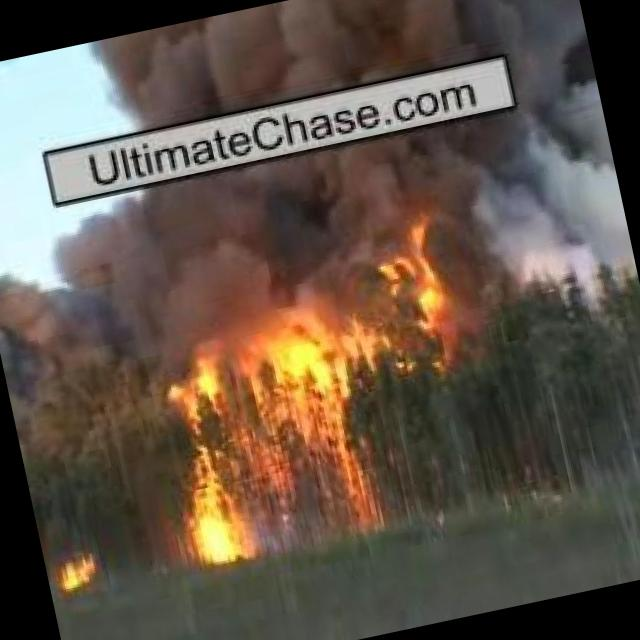Fire: (152, 315, 384, 575), (378, 203, 463, 364), (59, 552, 101, 594)
Smoke: (0, 130, 445, 377), (84, 0, 586, 137), (418, 103, 639, 320)
